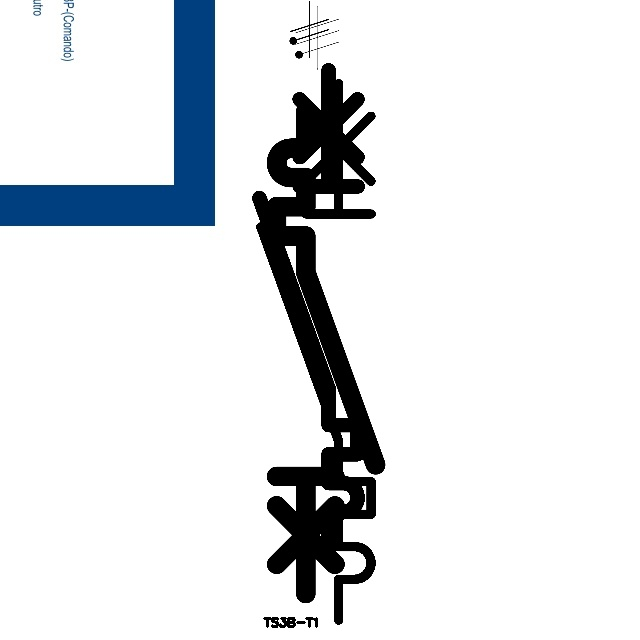interruptor_termomagnetico: (247, 69, 385, 633), (264, 99, 388, 606), (247, 57, 370, 560)
